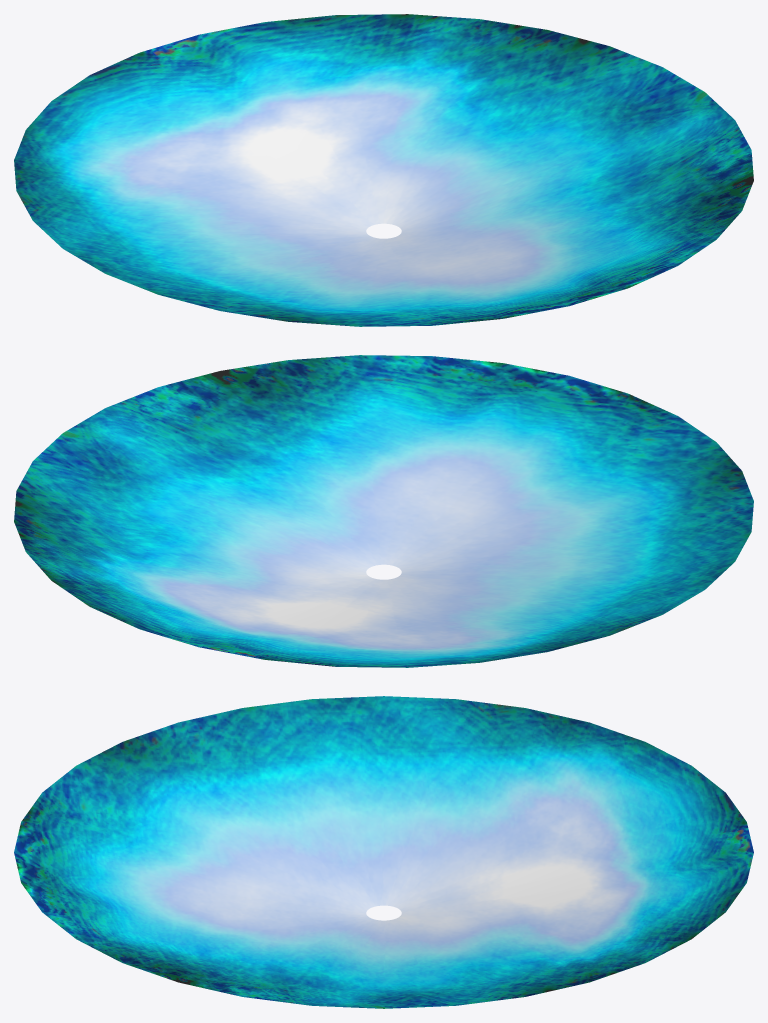
File: m_blueplasma_cone.fbx
3 views of the same model, one above another, from view 1: azimuth 30°, elevation 25°; view 2: azimuth 150°, elevation 25°; view 3: azimuth 270°, elevation 25° (orthographic).
Parts seen in each view (by area): view 1: m_blueplasma_cone; view 2: m_blueplasma_cone; view 3: m_blueplasma_cone.
Boxes of the visible parts, bbox=[...] form: m_blueplasma_cone: bbox=[14, 14, 753, 326]; m_blueplasma_cone: bbox=[14, 355, 753, 667]; m_blueplasma_cone: bbox=[14, 696, 753, 1008].
Bounding box in the file's own units: 48.81 × 4.41 × 48.81.
